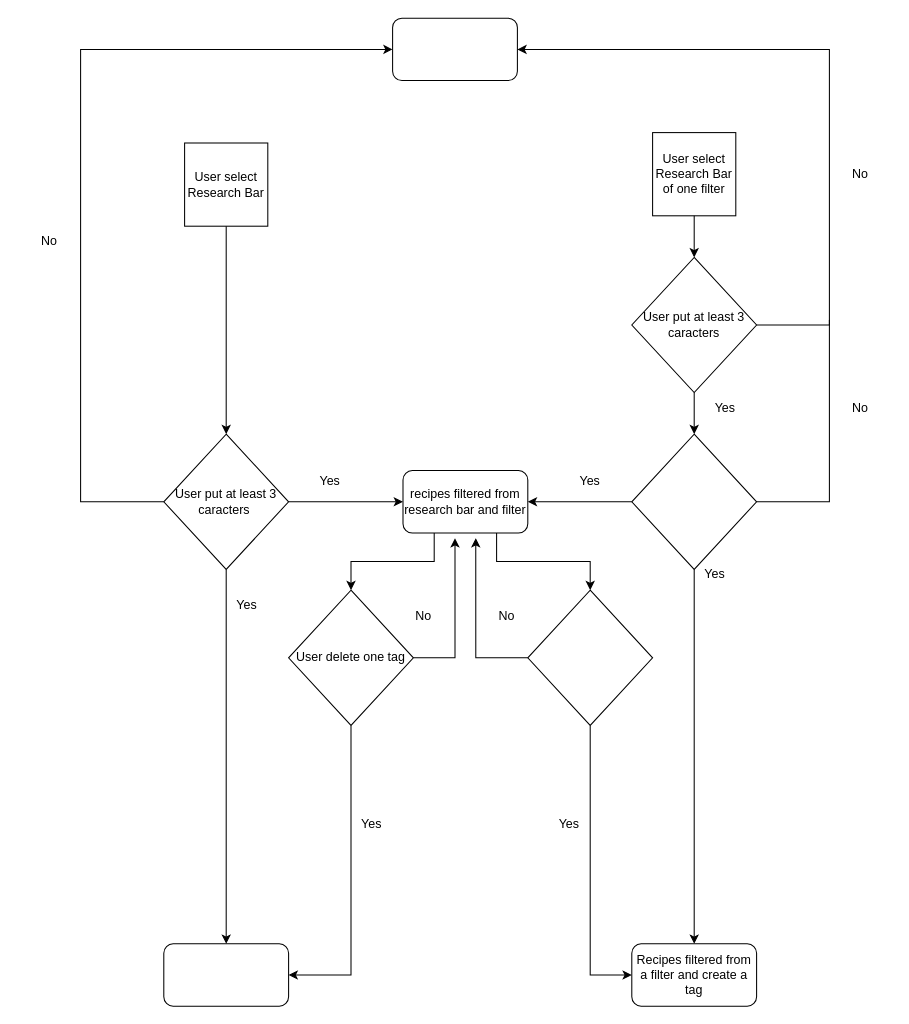
Some shapes in this 909 by 1024 pixel diagram are drawn without their labels. The centre of each missing label's shape, as x and y in pixels:
Full list of recipes: the point at 454,49
recipes filtered from research bar: the point at 226,974
User delete caracters in the research Bar: the point at 590,657
User select one filter: the point at 694,501
